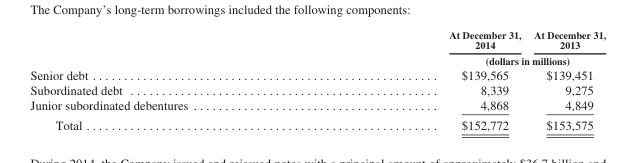table: (29, 28, 605, 131)
table column: (29, 28, 317, 131), (317, 28, 526, 131), (526, 28, 605, 131)
table column header: (29, 28, 605, 66)
table row: (29, 28, 605, 52), (29, 97, 605, 114), (29, 114, 605, 131), (29, 66, 605, 82), (29, 82, 605, 97), (29, 52, 605, 66)
table spanning cell: (317, 52, 605, 66)
